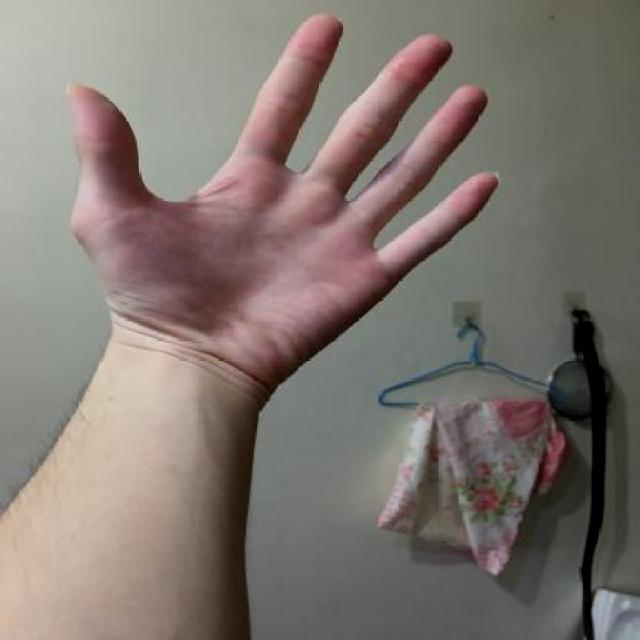no_glove: (60, 0, 514, 409)
